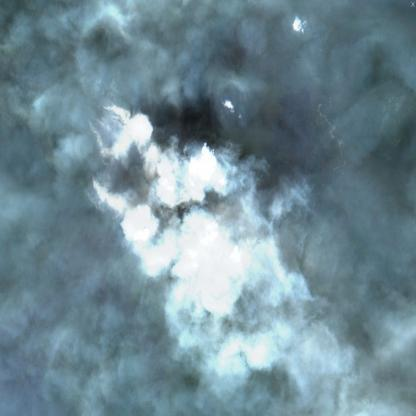fire: (79, 93, 158, 222)
